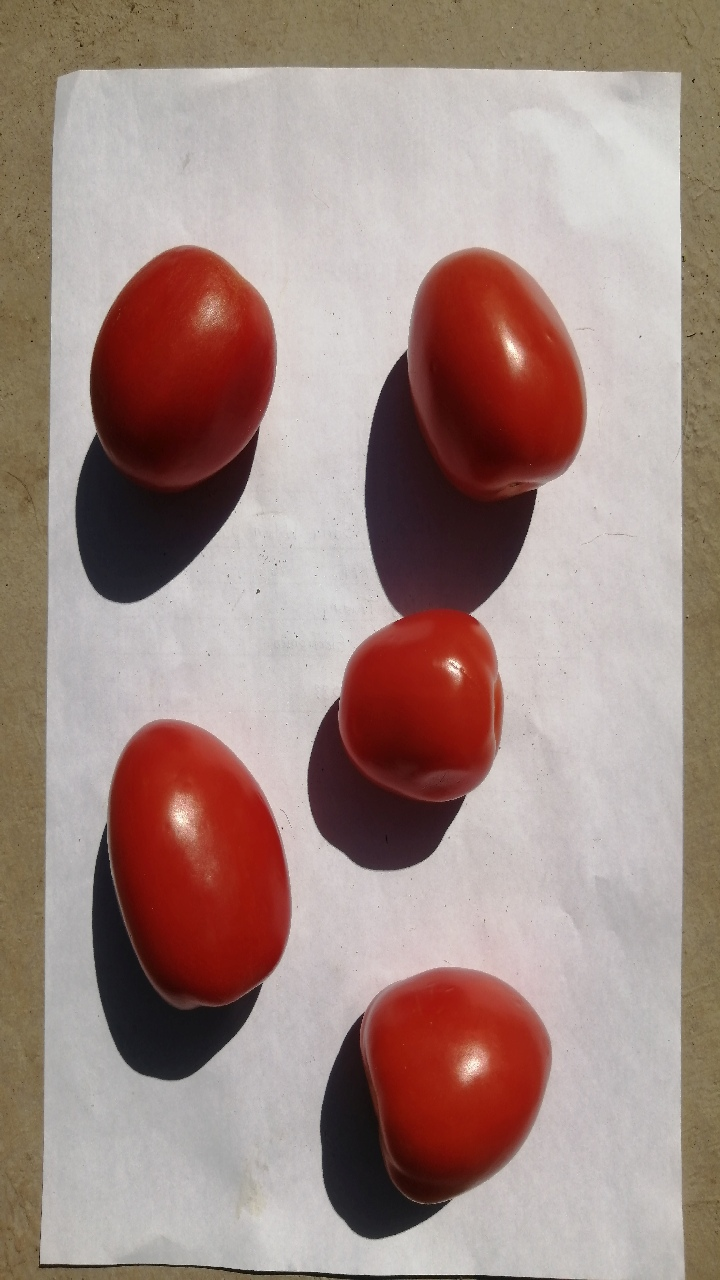tomateRojo: (91, 703, 303, 1032), (324, 949, 566, 1228), (80, 235, 317, 502), (388, 237, 598, 514), (324, 600, 535, 823)
